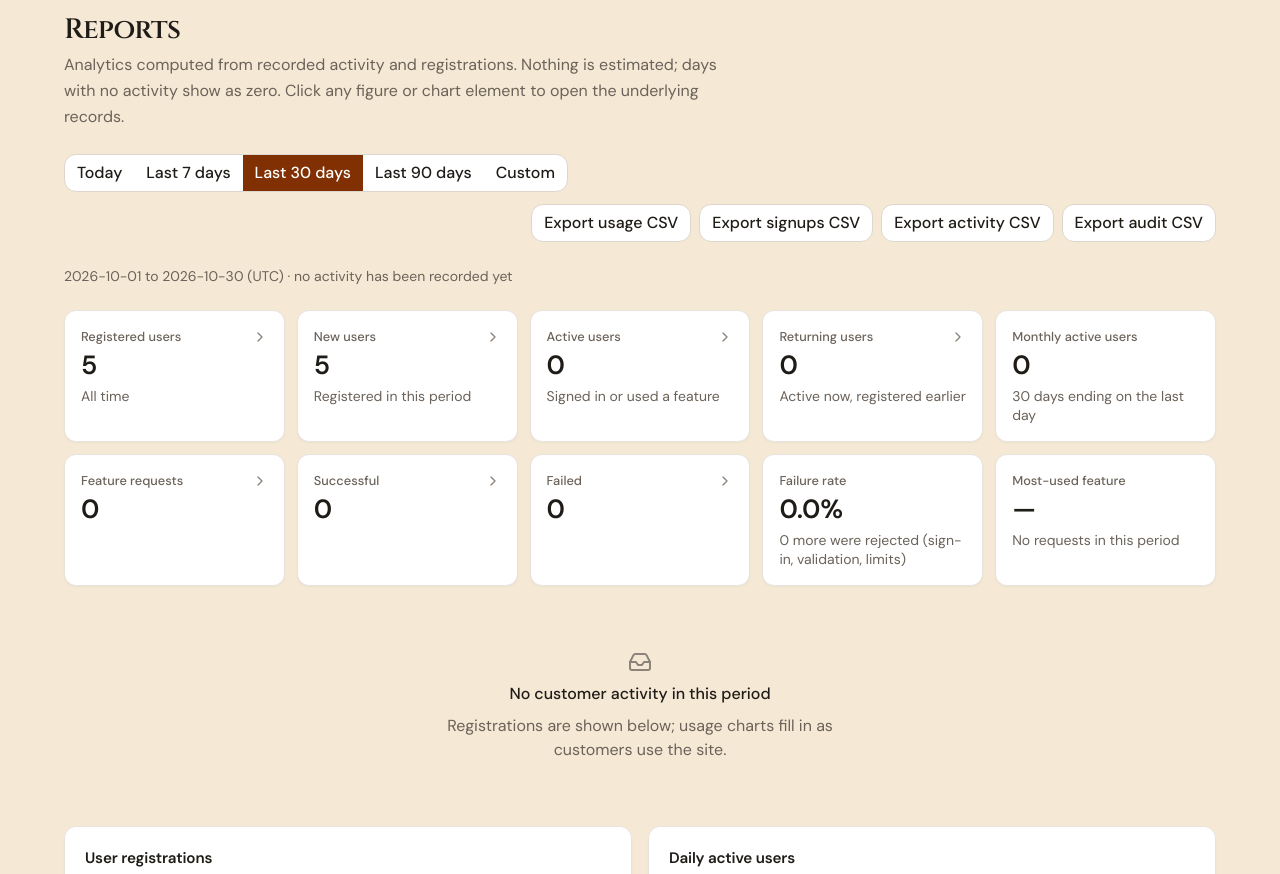
Reports page › offers custom dates and refuses an inverted range
Expected: the text "Registered users" is shown, [81,327,181,346]
Click the button "Custom" at [525, 173], box [484,155,567,191]
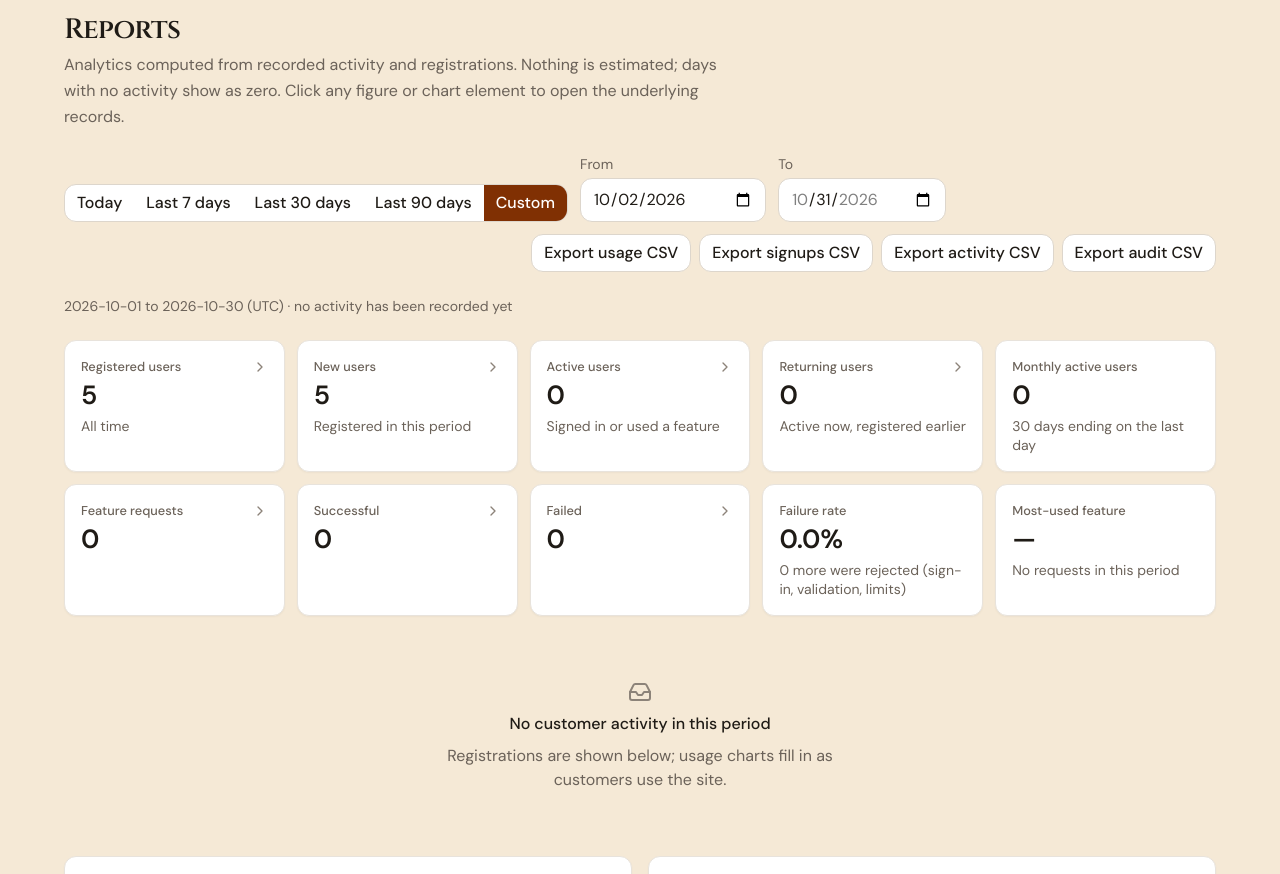
Expected: the date field labelled "From" is shown, [580,178,766,222]
